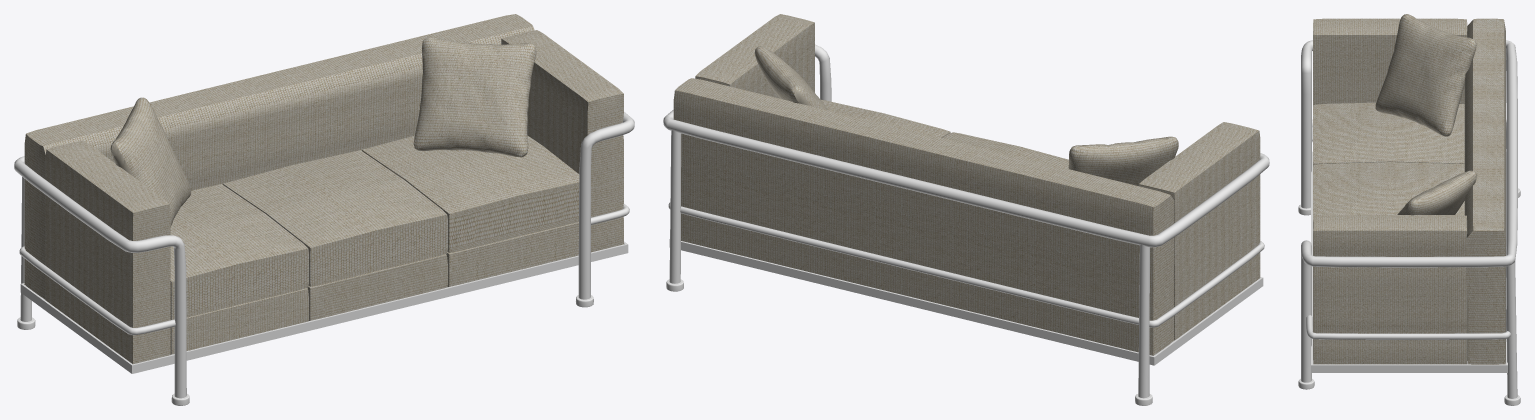
Rendered from sh_blend_swap_cc_0_couch.glb.
The picture shows the model from 3 angles, left to right: view 1: azimuth 30°, elevation 25°; view 2: azimuth 150°, elevation 25°; view 3: azimuth 270°, elevation 25°; orthographic projection. The views are drawn at different scales.
Size of the model in its own units: 2.07 by 0.856 by 0.876.
Materials: 3 (2 with a texture image).
